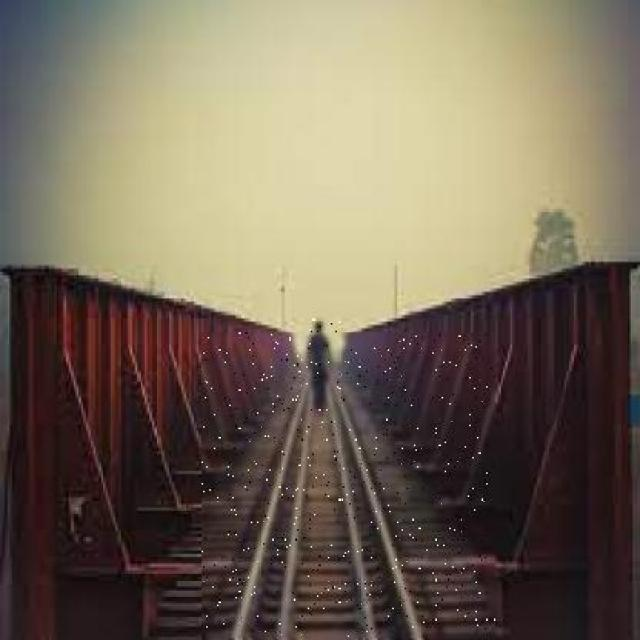rail: (204, 335, 496, 638)
